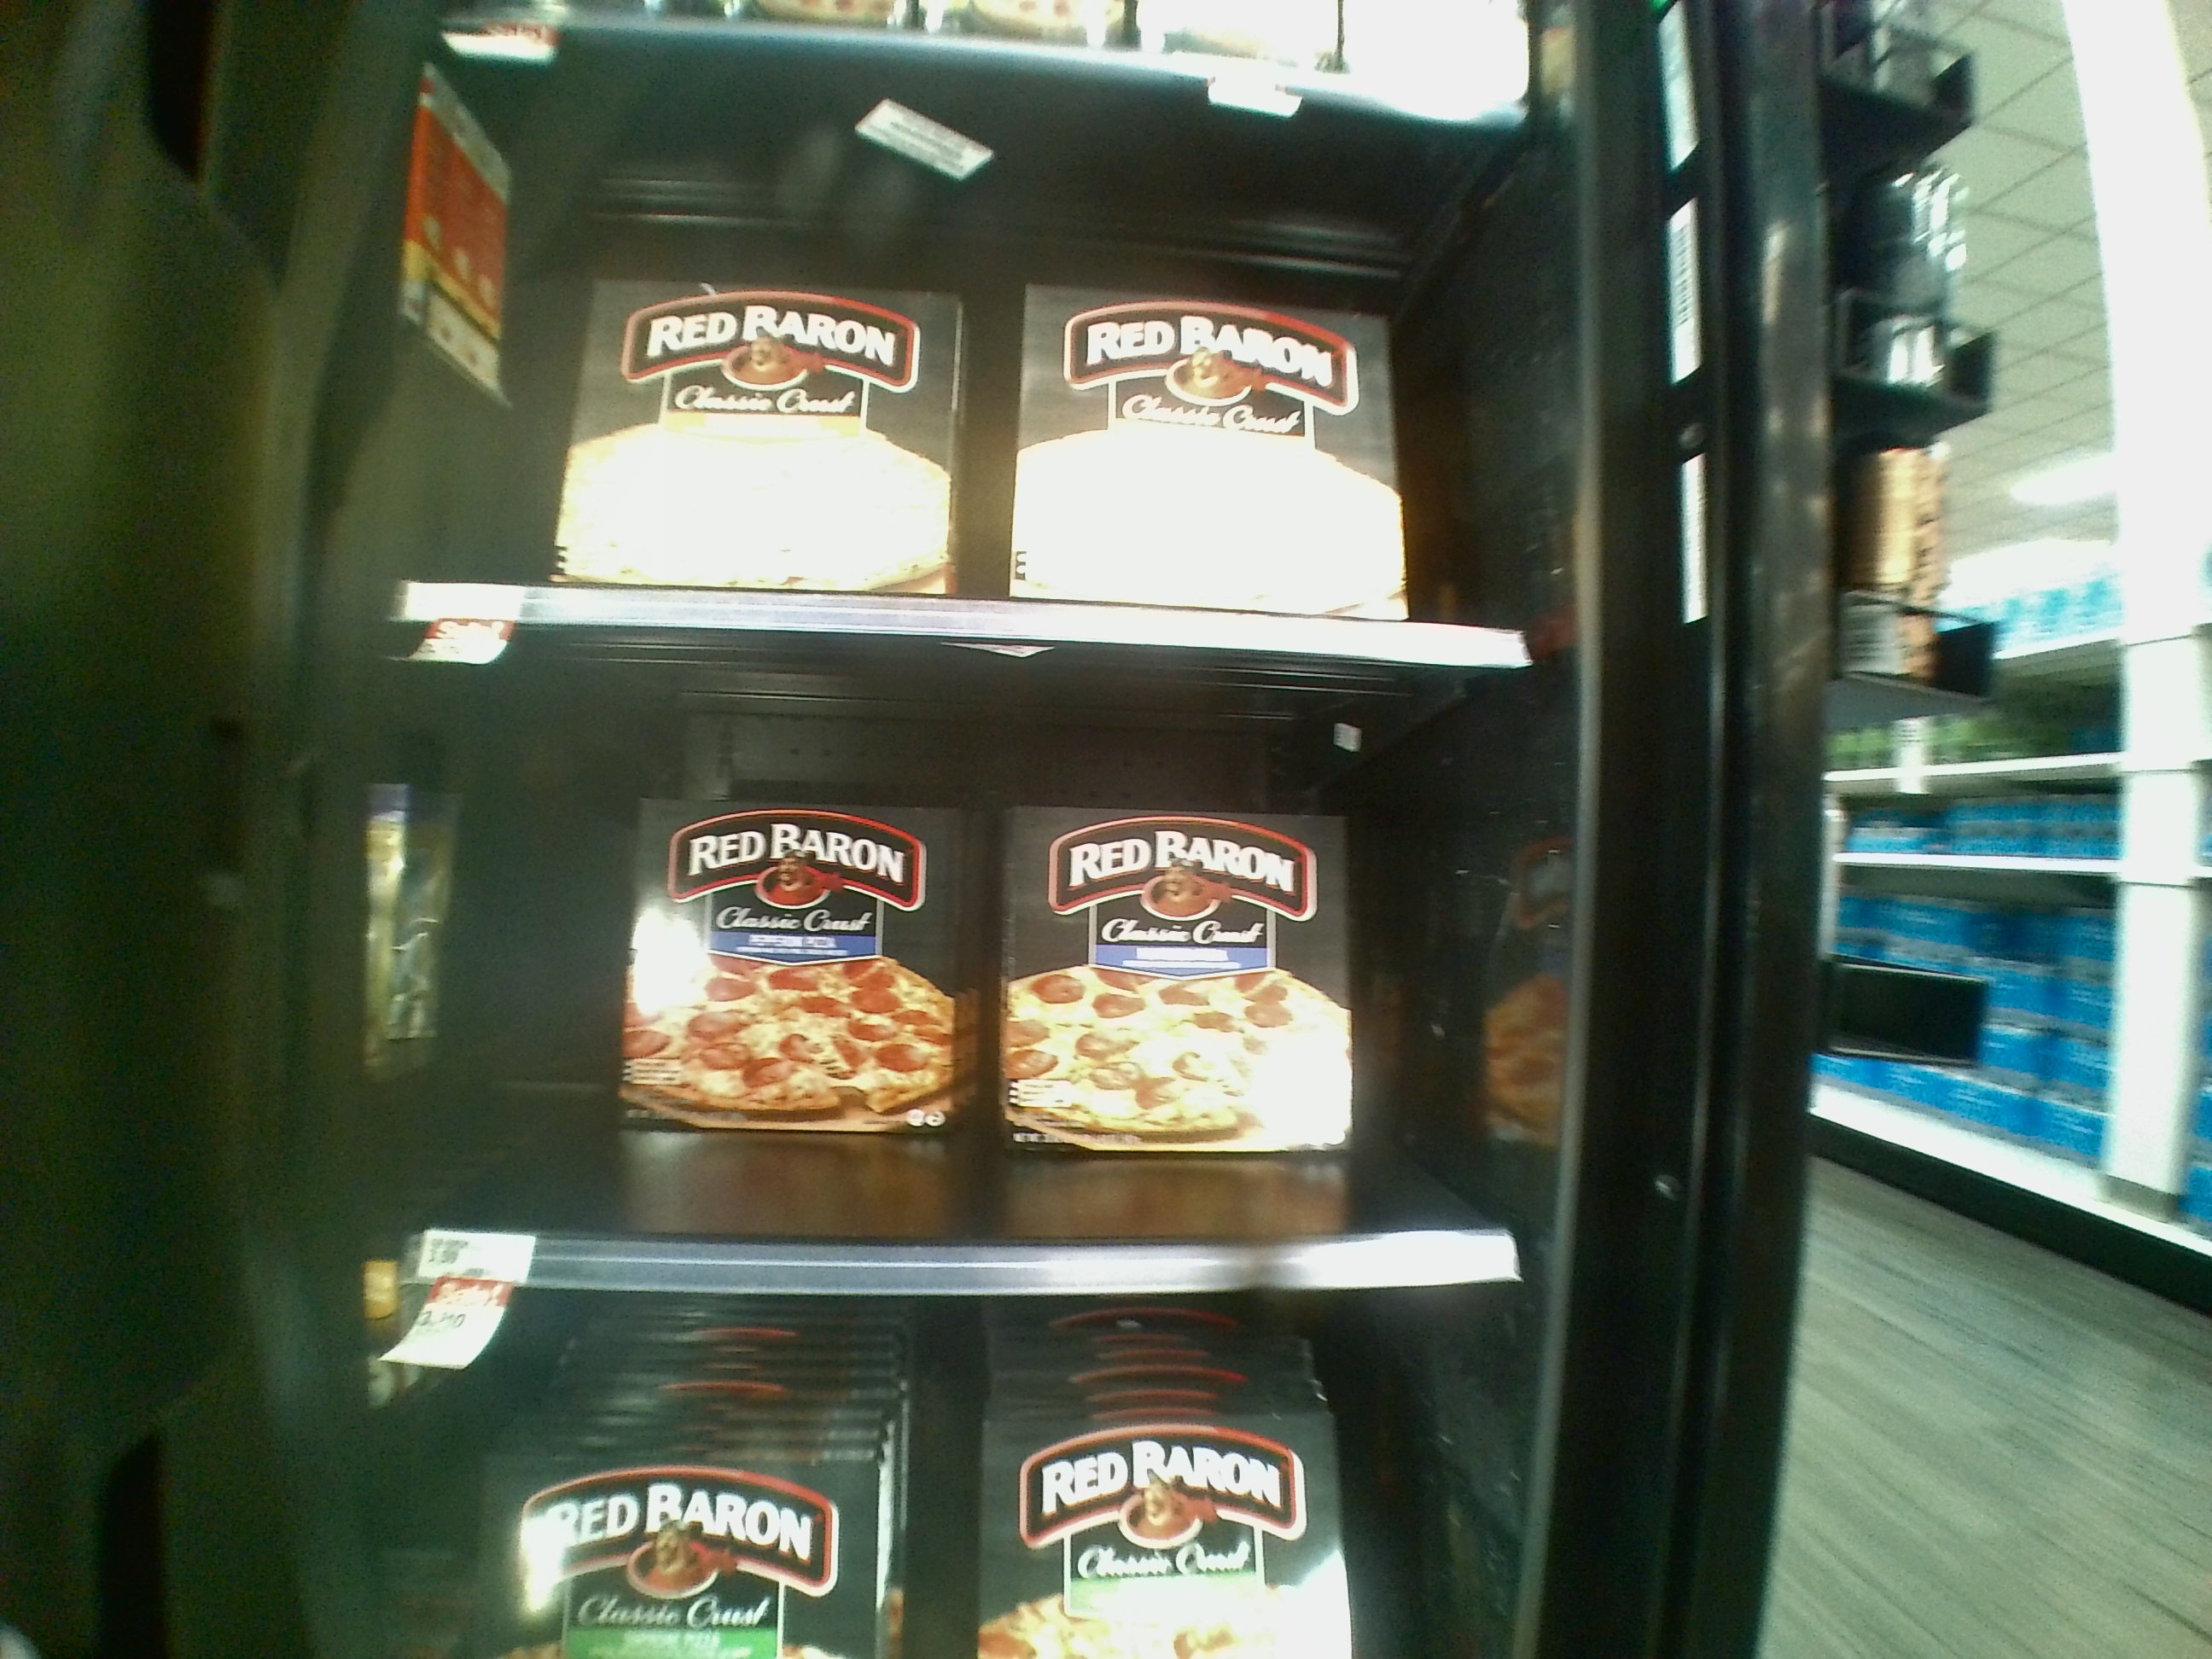shelf: (402, 640, 1550, 1303), (442, 42, 1552, 660)
